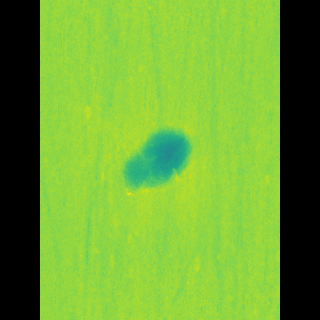Loch: (128, 123, 185, 197)
